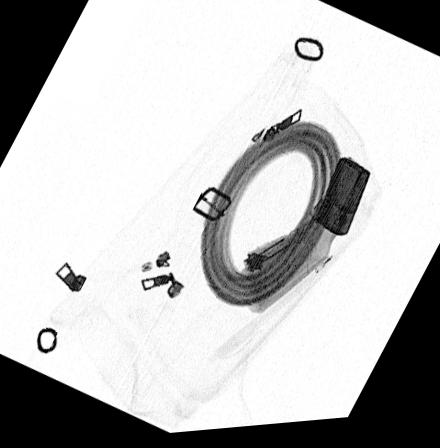Lighter: (314, 162, 372, 241)
